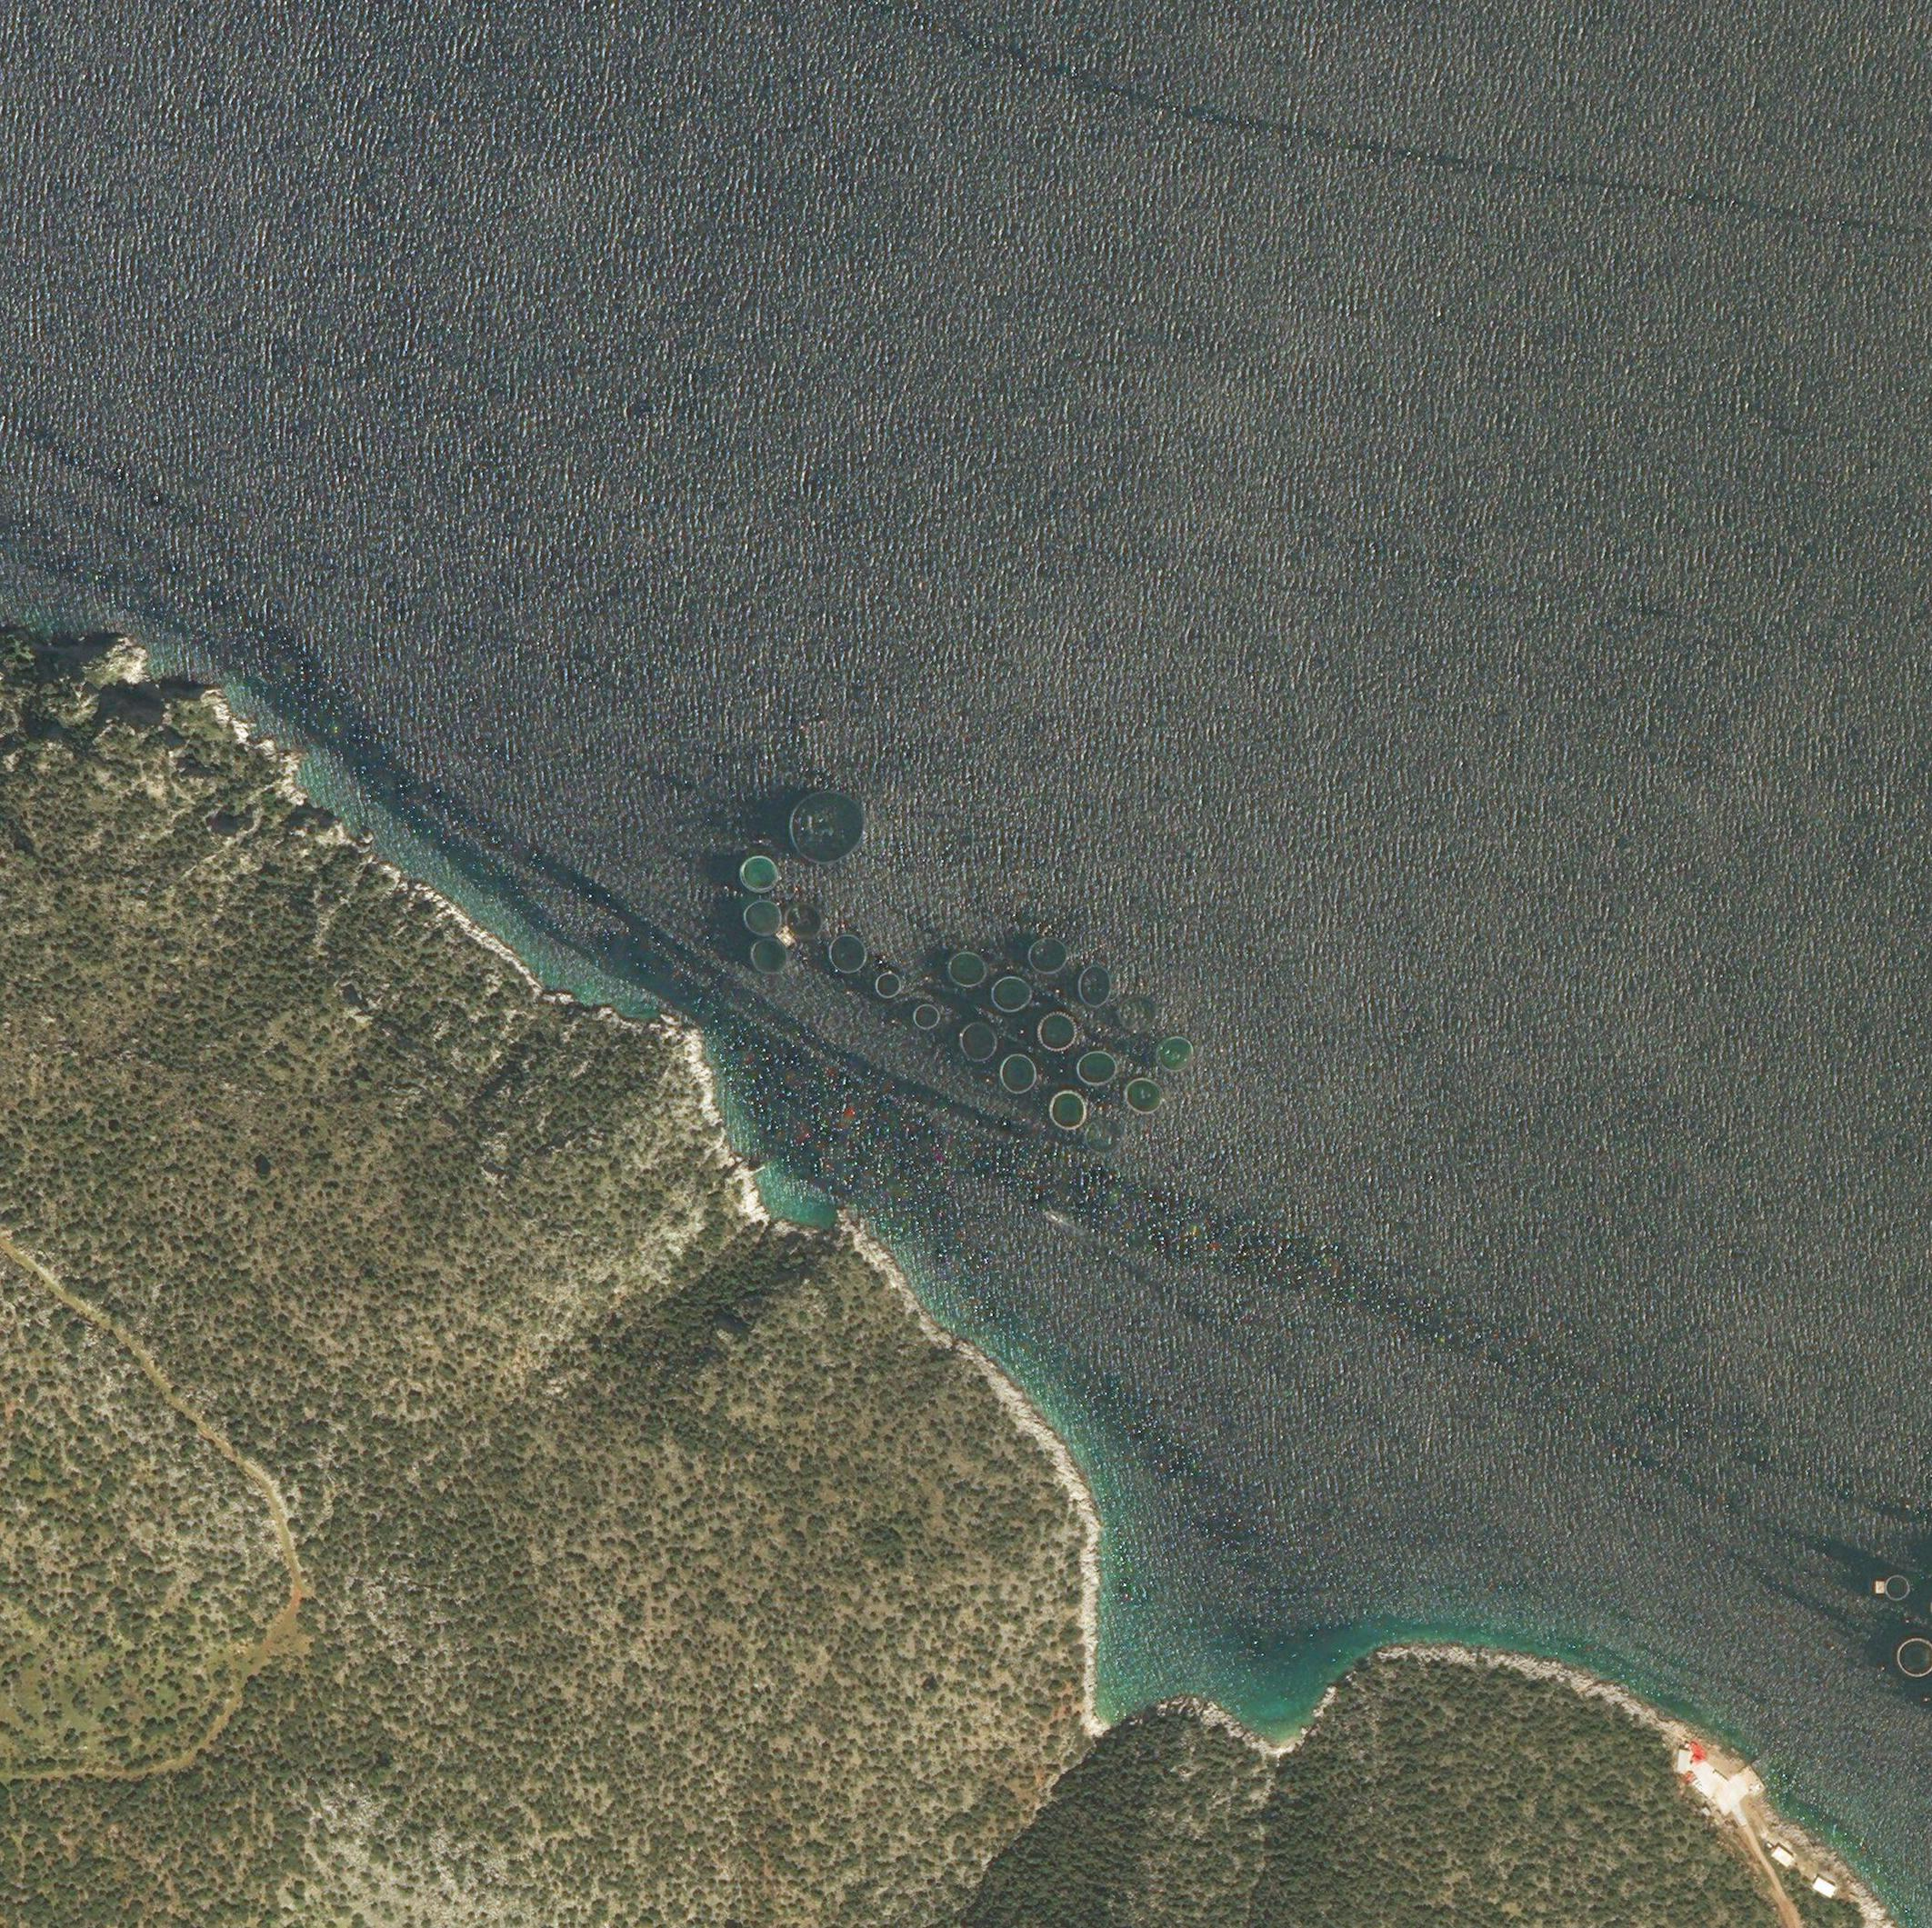c: (788, 789, 865, 863), (1035, 1012, 1077, 1054), (1045, 1088, 1086, 1132), (959, 1020, 998, 1065), (1121, 1075, 1166, 1114), (991, 975, 1033, 1013), (1075, 964, 1113, 1008), (738, 855, 779, 893), (1026, 934, 1067, 973), (1116, 992, 1155, 1033), (1084, 1116, 1125, 1155), (742, 899, 784, 936), (1000, 1052, 1037, 1095), (747, 938, 788, 975), (784, 902, 825, 939), (947, 950, 987, 987), (830, 934, 867, 973), (1155, 1035, 1192, 1073), (1075, 1051, 1116, 1086), (872, 971, 901, 999), (911, 1001, 940, 1028)
